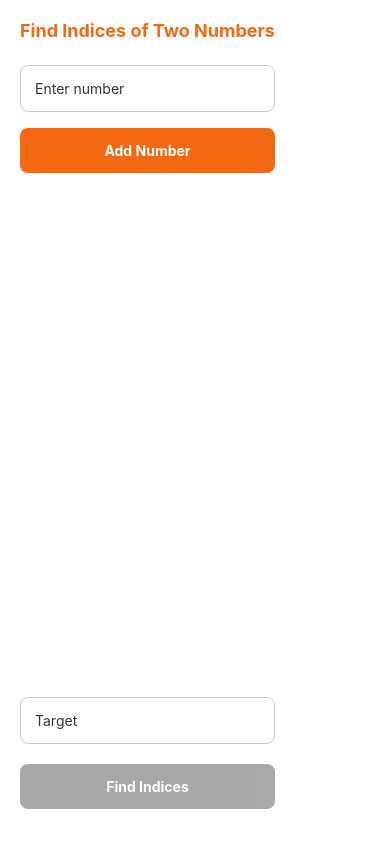
Test: TwoSumScreen › shows "No solution" when there is no valid pair
In the field with placeholder "Enter number": coordinates (148, 88) [20,65,275,112], type "1"
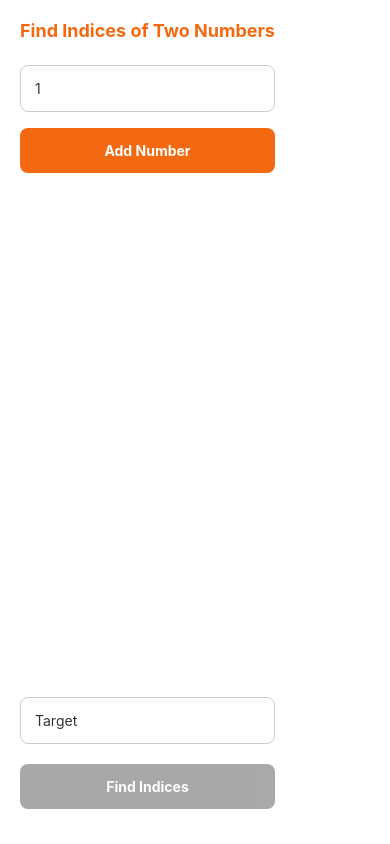
Click the text "Add Number": coordinates (147, 150) [104,142,190,159]
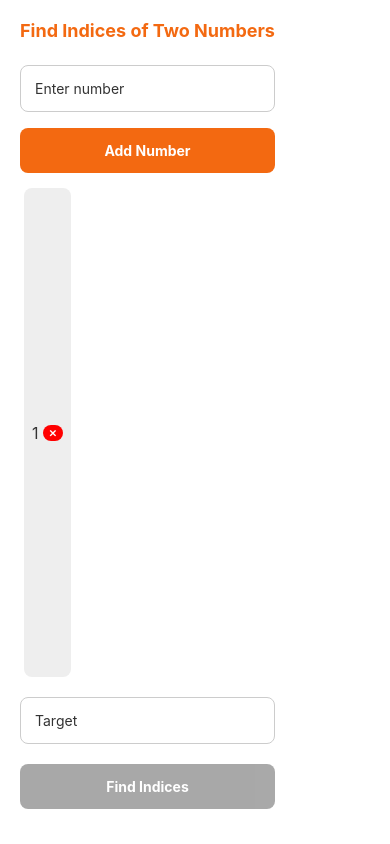
In the field with placeholder "Enter number": coordinates (148, 88) [20,65,275,112], type "2"
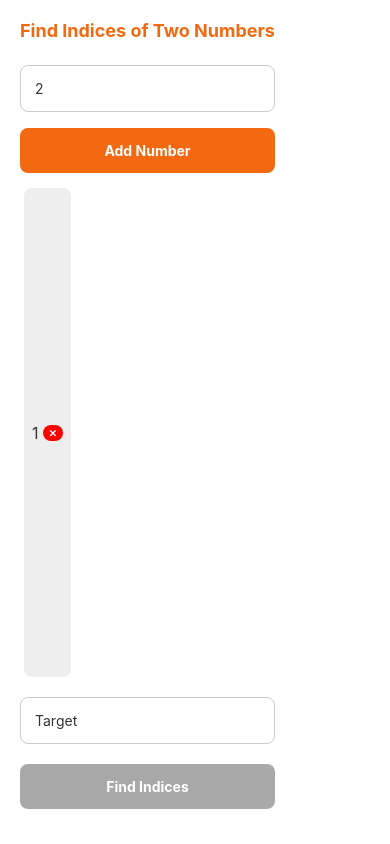
Click the text "Add Number": coordinates (147, 150) [104,142,190,159]
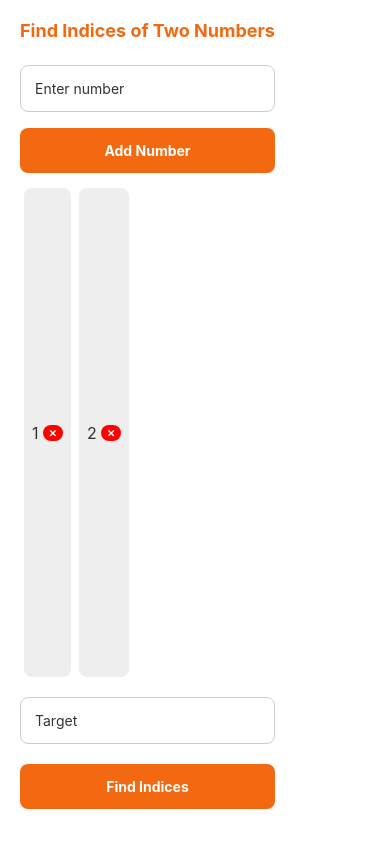
In the field with placeholder "Target": coordinates (148, 720) [20,697,275,744], type "10"
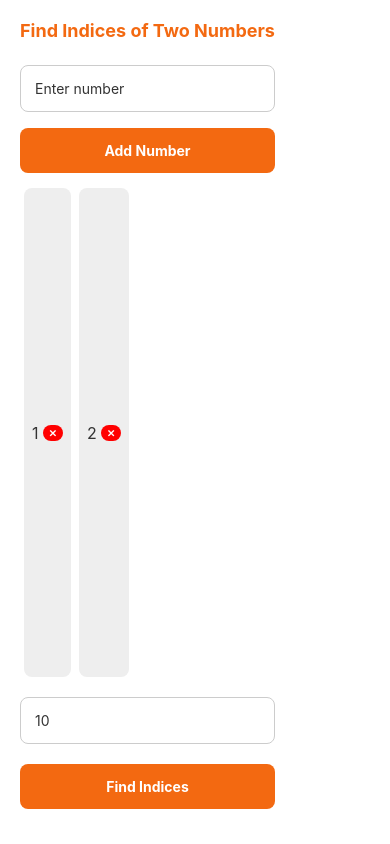
Click the text "Find Indices": coordinates (148, 786) [106,778,189,795]
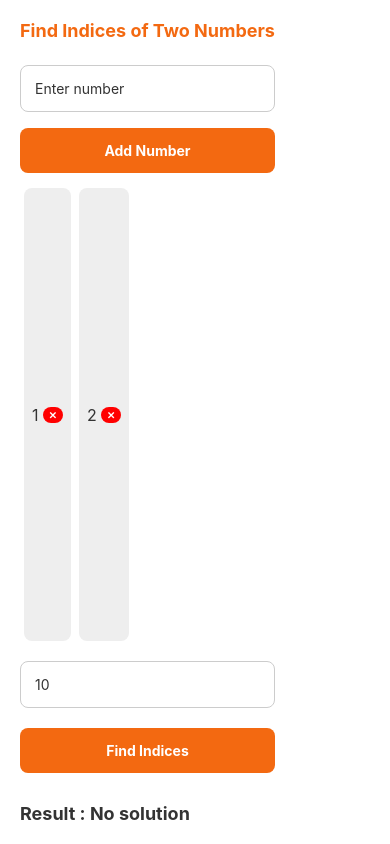
Now the text "Result : No solution" is shown, box [20,803,190,824]
